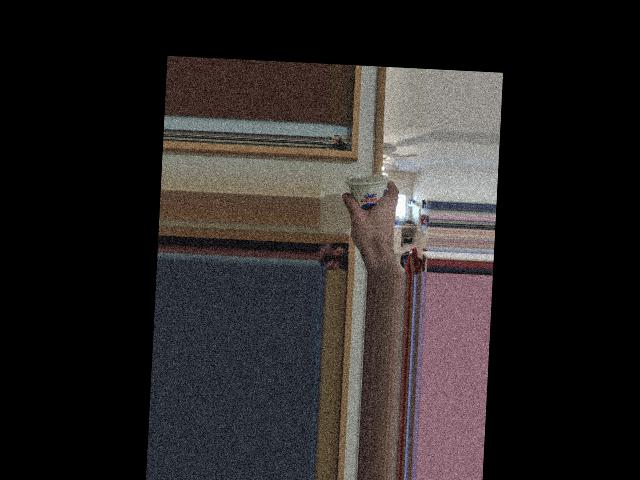cotage: (345, 169, 394, 221)
